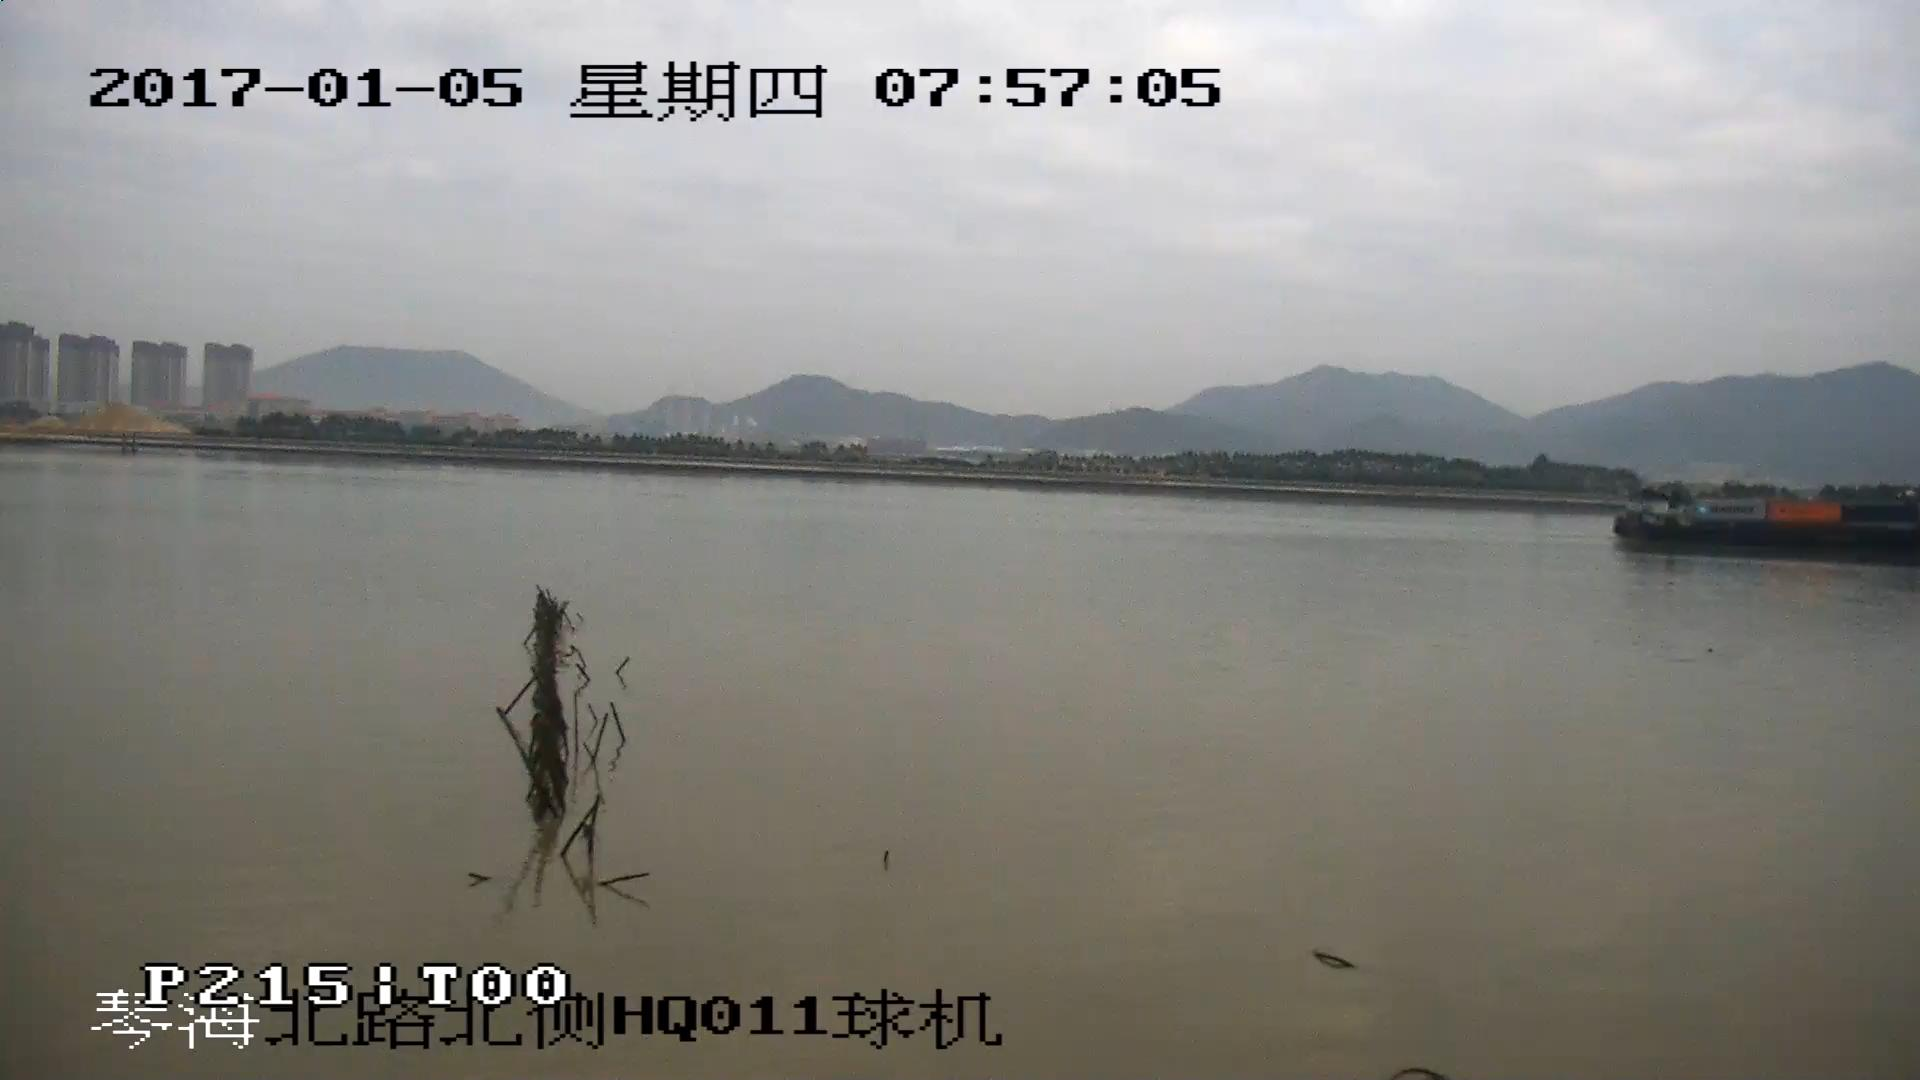container ship: (1616, 497, 1920, 556)
